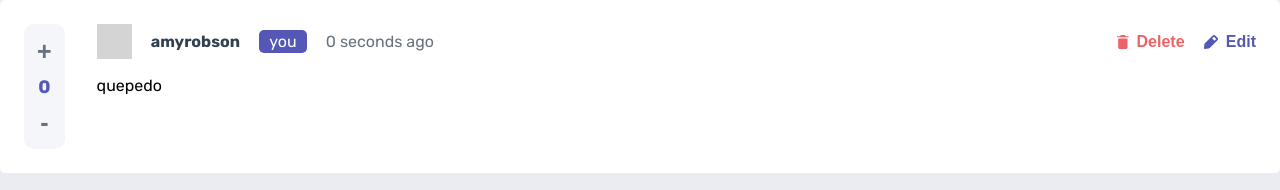
Test: Comment component › the "-" button should subtract the counter
Click the button "-" at coordinates (44, 122), box [35,103,53,142]
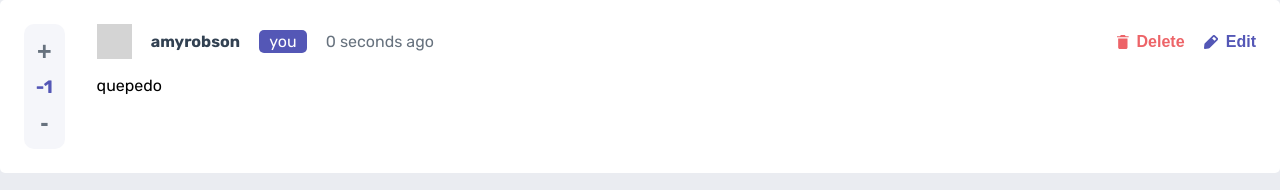
expect the text with test id "counter-text" reads "-1": met, box [36,76,53,98]
